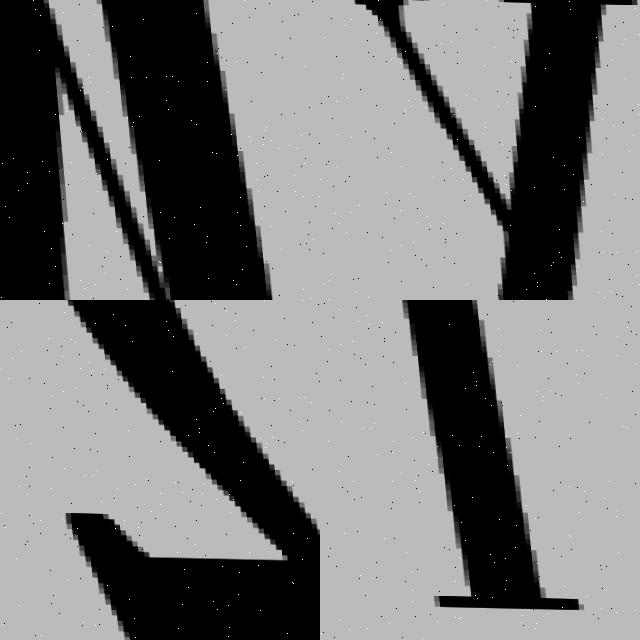7: (0, 300, 320, 640)
L: (328, 300, 597, 618)
M: (0, 0, 319, 300)
X: (331, 0, 640, 300)
